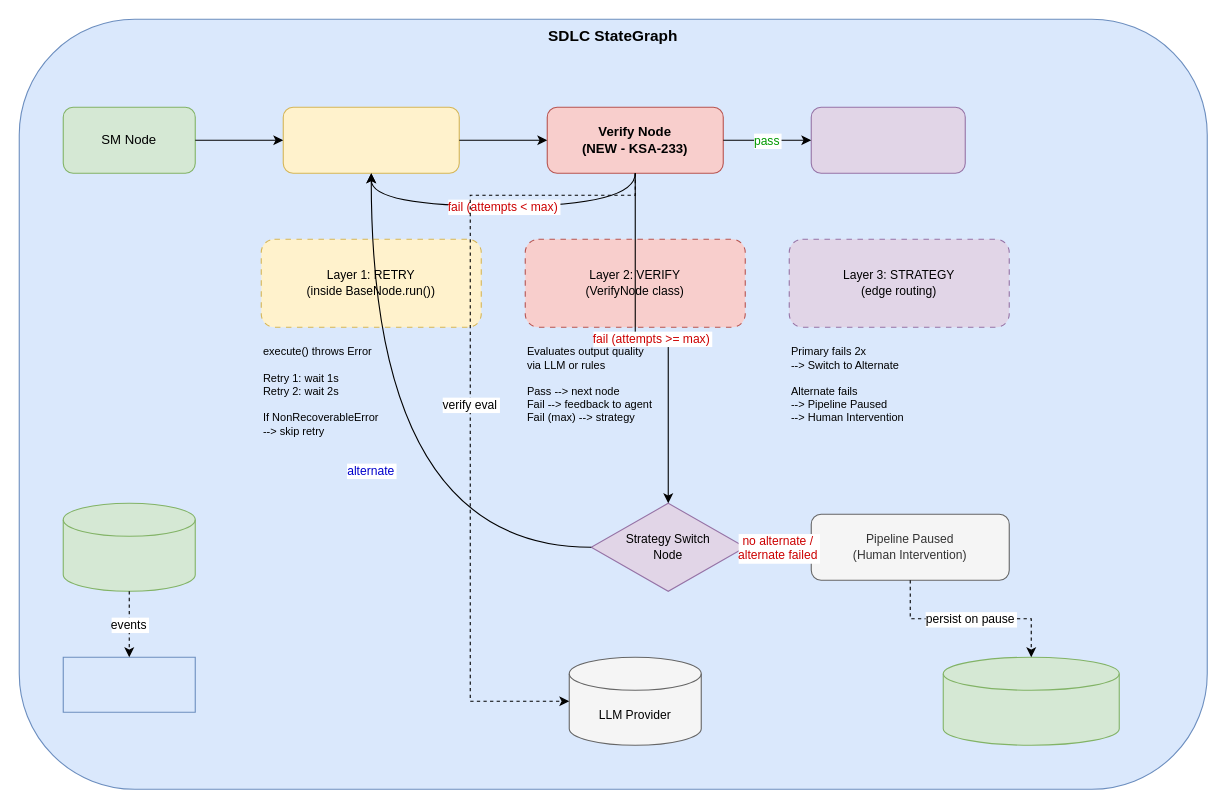
Some shapes in this 1227 by 809 pixel diagram are drawn without their labels. The centre of each missing label's shape, as x and y in pixels:
Agent Node (BA/SA/DEV/QA): the point at 370,139
Chat Panel UI: the point at 128,684
Quality Gate (Existing): the point at 887,139
StreamHandler: the point at 128,546
WorkspaceCheckpointer: the point at 1030,700
